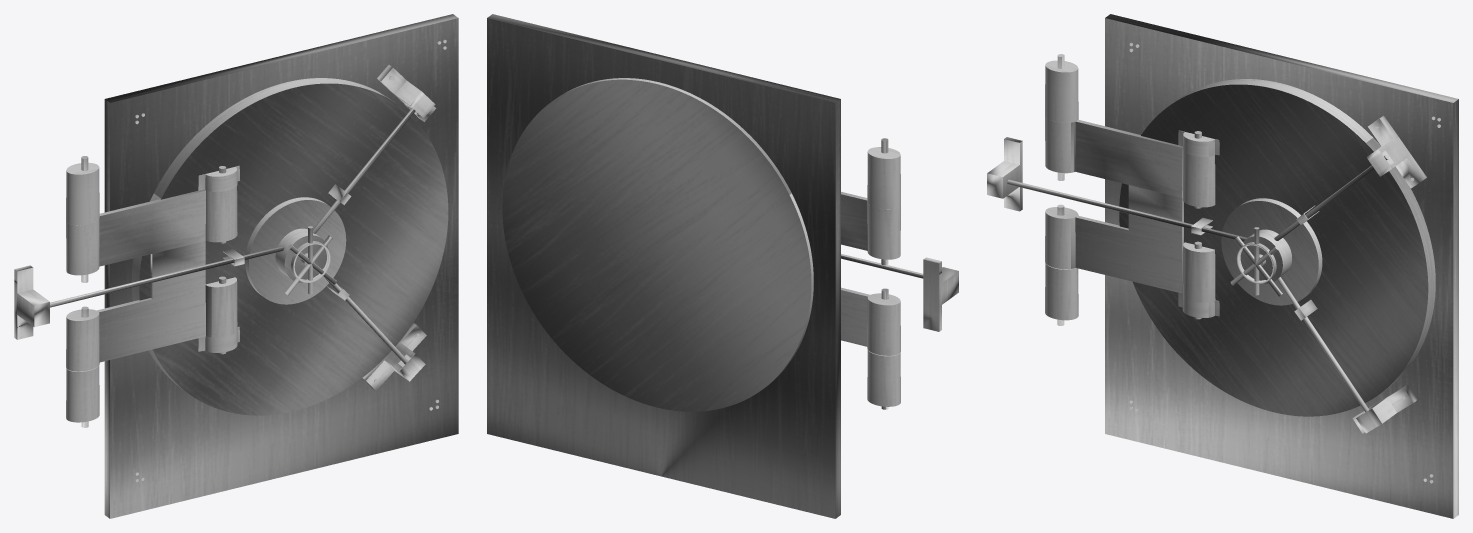
The model's file is Vault door.fbx.
3 renders of one model, left to right at view 1: azimuth 30°, elevation 25°; view 2: azimuth 150°, elevation 25°; view 3: azimuth 330°, elevation 25°, orthographic.
Parts seen in each view (by area): view 1: Vault door; view 2: Vault door; view 3: Vault door.
Part boxes in pixels (x1,y1,x2,y2): Vault door: (14, 14, 458, 518); Vault door: (487, 14, 958, 518); Vault door: (987, 14, 1458, 518).
Size of the model in its own units: 442 by 394 by 57.55.
1 material, 1 textured.
